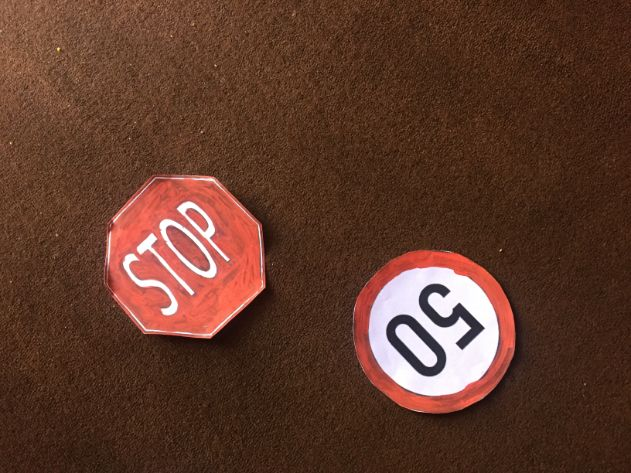speed-50: (354, 249, 513, 418)
stop: (108, 173, 263, 332)
